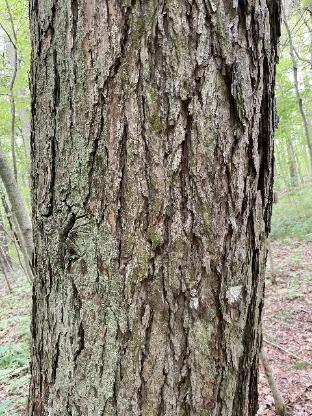tree: (21, 0, 279, 416)
